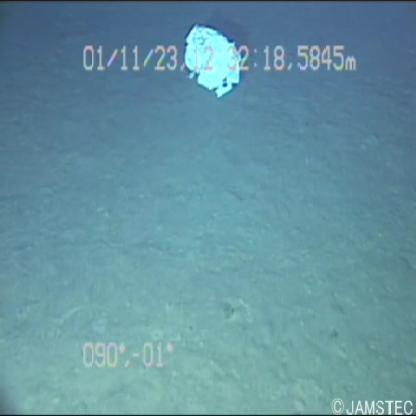Rác: (178, 19, 242, 100)
